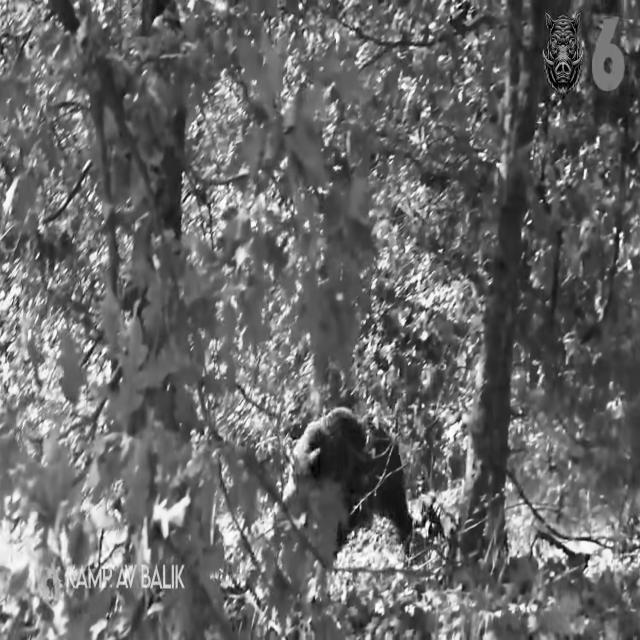boar: (283, 407, 411, 565)
